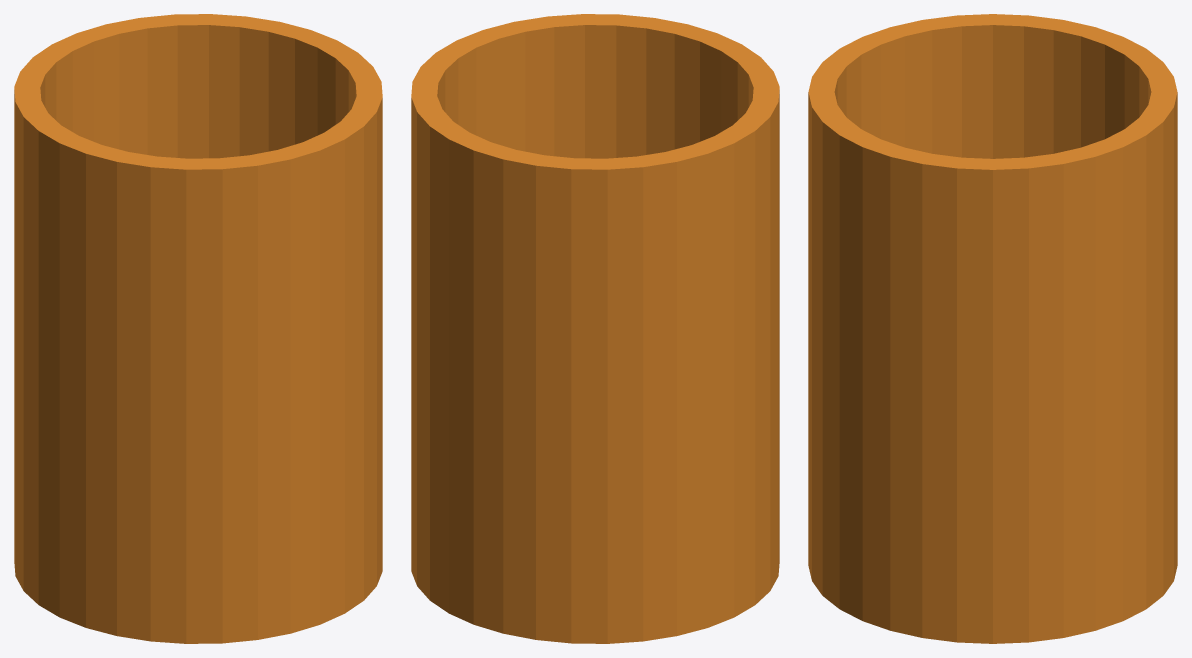
The model's file is pillBottle.fbx.
The picture shows the model from 3 angles, left to right: view 1: azimuth 30°, elevation 25°; view 2: azimuth 150°, elevation 25°; view 3: azimuth 270°, elevation 25°; orthographic projection.
Parts seen in each view (by area): view 1: Cylinder; view 2: Cylinder; view 3: Cylinder.
Boxes of the visible parts, x1,y1,x2,y2 form: Cylinder: (14, 14, 382, 643); Cylinder: (411, 14, 779, 643); Cylinder: (808, 14, 1177, 643).
Bounding box in the file's own units: 222 × 315 × 222.
